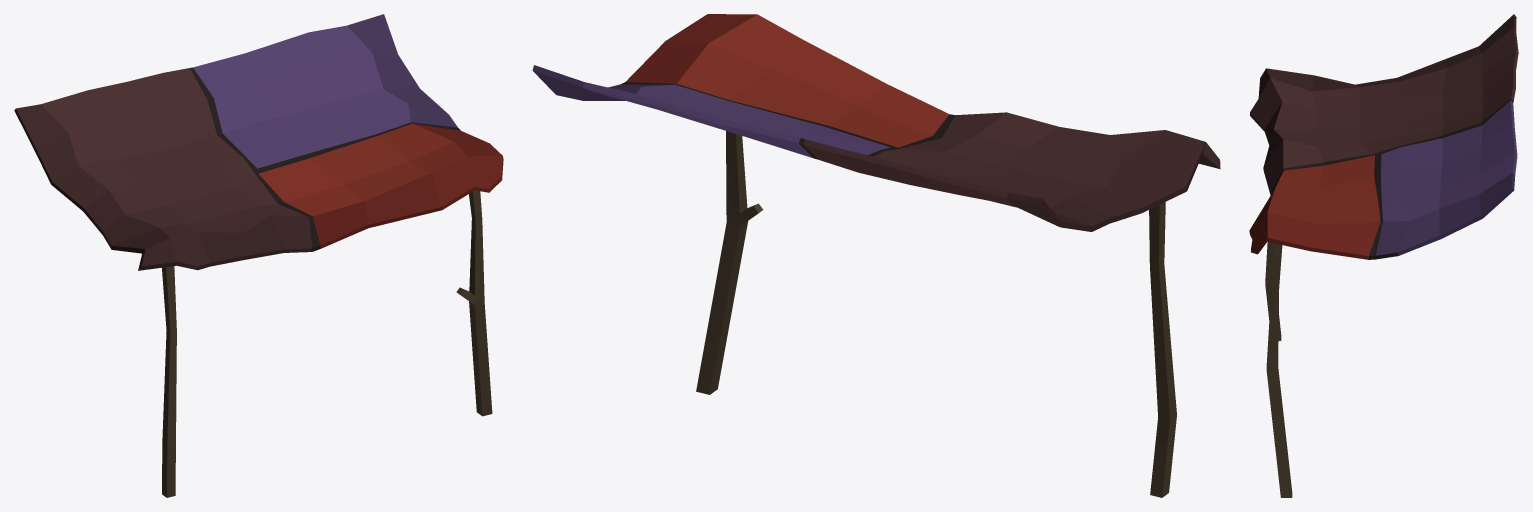
File: SM_Prop_Stall_Cloth_01.glb
3 views of the same model, side by side, from view 1: azimuth 30°, elevation 25°; view 2: azimuth 150°, elevation 25°; view 3: azimuth 270°, elevation 25° (orthographic). The views are drawn at different scales.
Parts seen in each view (by area): view 1: SM_Prop_Stall_Cloth_01; view 2: SM_Prop_Stall_Cloth_01; view 3: SM_Prop_Stall_Cloth_01.
Part boxes in pixels (x1=…): SM_Prop_Stall_Cloth_01: x1=14, y1=14, x2=503, y2=497; SM_Prop_Stall_Cloth_01: x1=532, y1=14, x2=1220, y2=497; SM_Prop_Stall_Cloth_01: x1=1249, y1=14, x2=1518, y2=497.
Bounding box in the file's own units: 0.0373 × 0.0295 × 0.0229.
